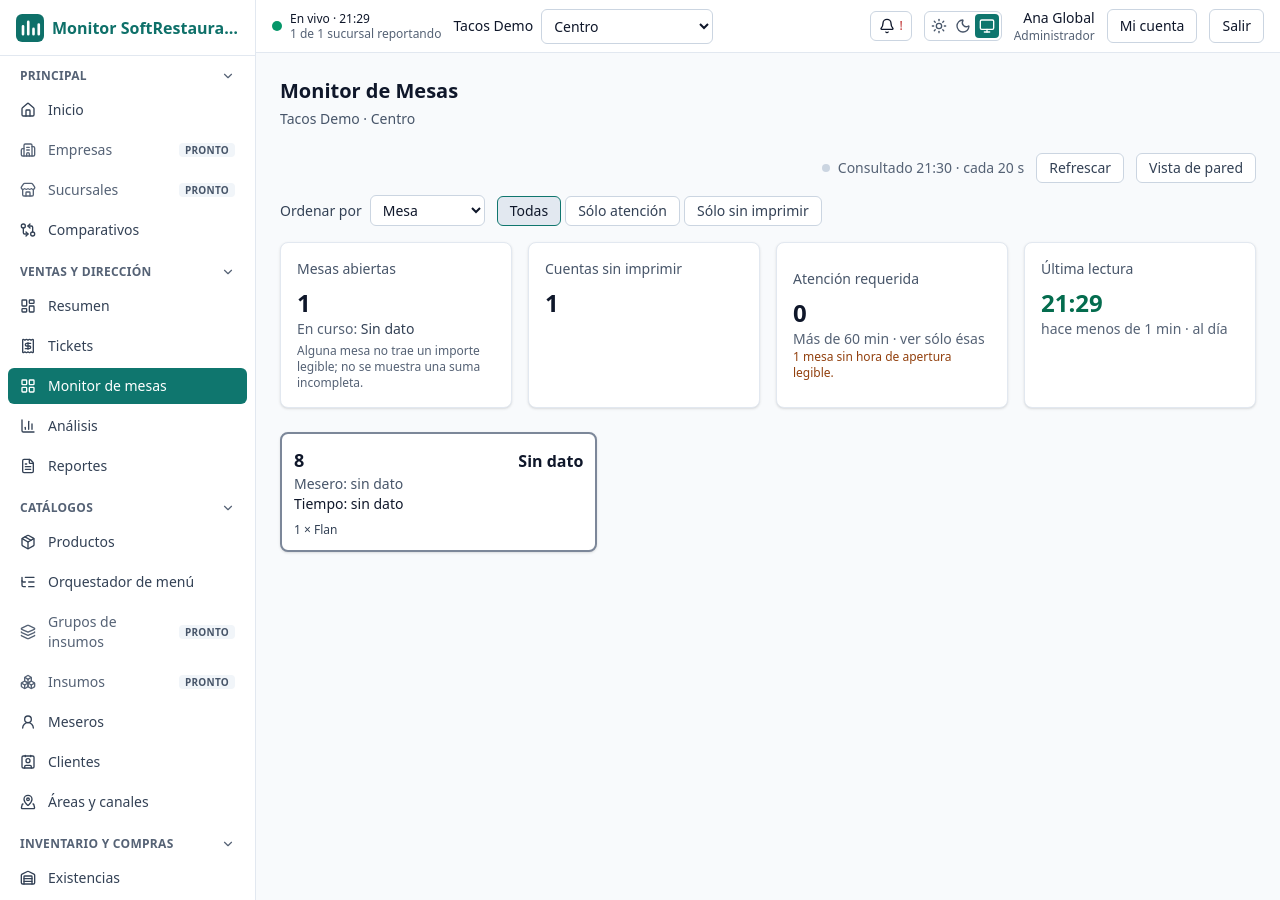
Test: Detalle de consumo (modal, F1-051) › lo que falta dice "Sin dato", nunca $0.00 ni 0
The image size is (1280, 900).
Expected: the text with test id "kpi-mesas" is shown, [297,286,311,319]
Click the button named "Ver consumo de Mesa 8": point(439, 492) [282,434,595,550]
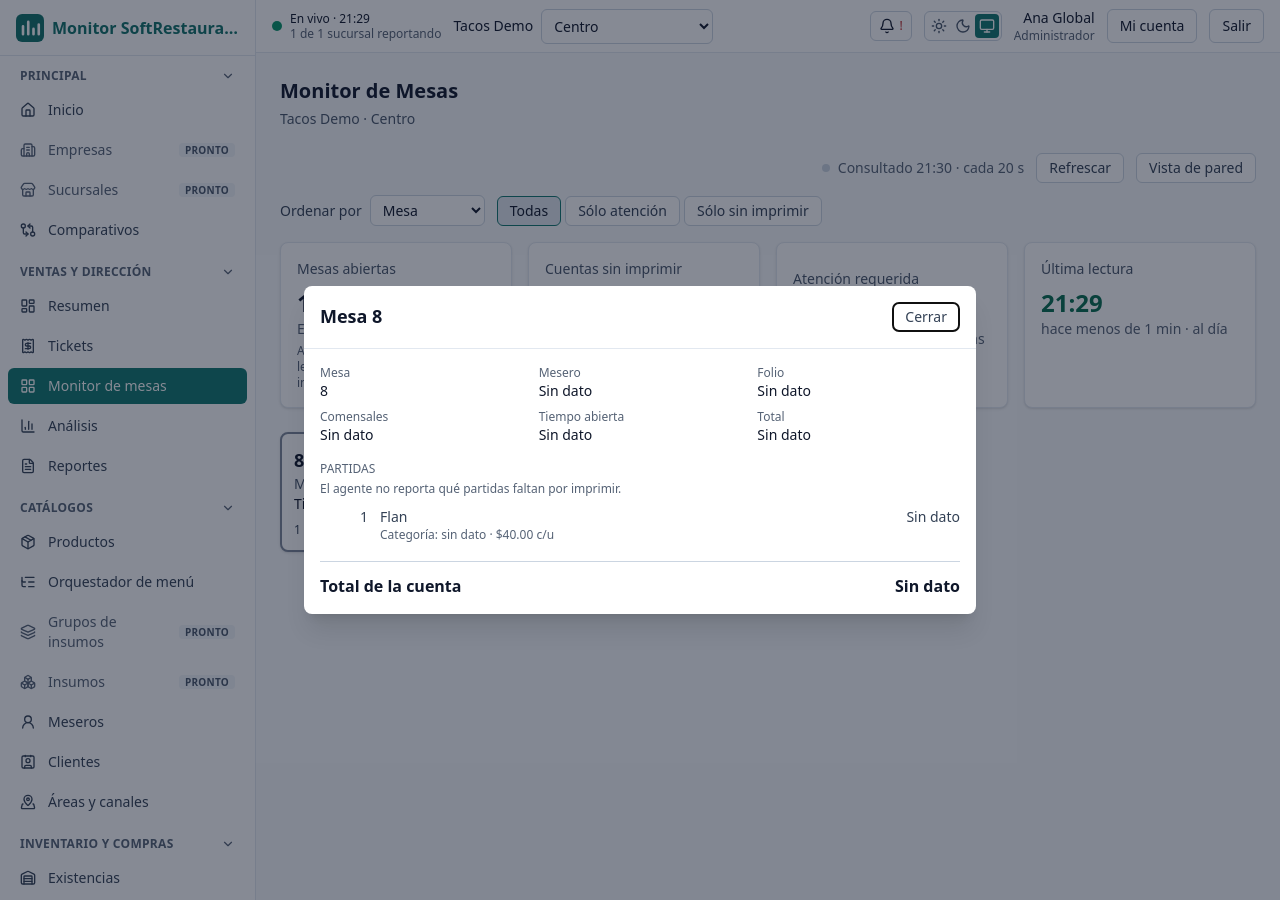
Now the text with test id "detalle-mesero" reads "Sin dato", box [539,381,592,400]
Now the text with test id "detalle-folio" reads "Sin dato", box [757,381,811,400]
Now the text with test id "detalle-comensales" reads "Sin dato", box [320,425,374,444]
